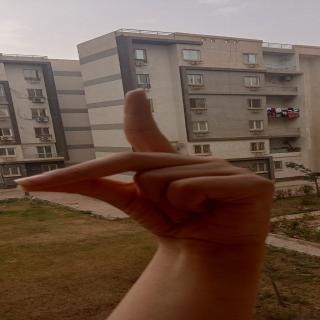TAA: (19, 86, 285, 248)
